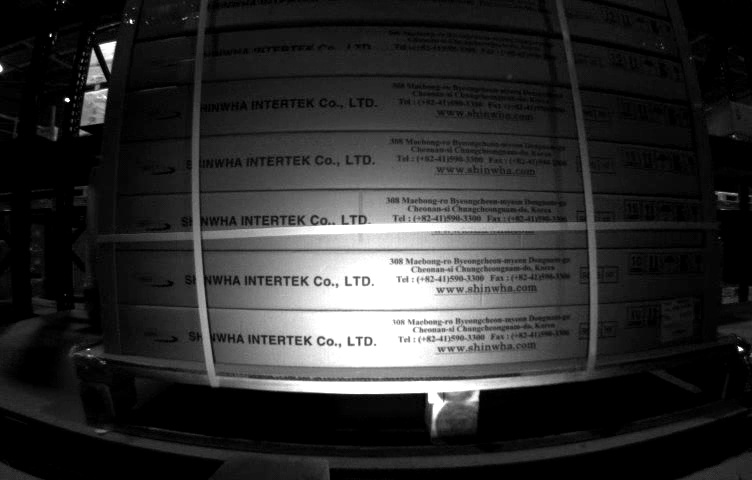True Barcode: (659, 295, 696, 342)
